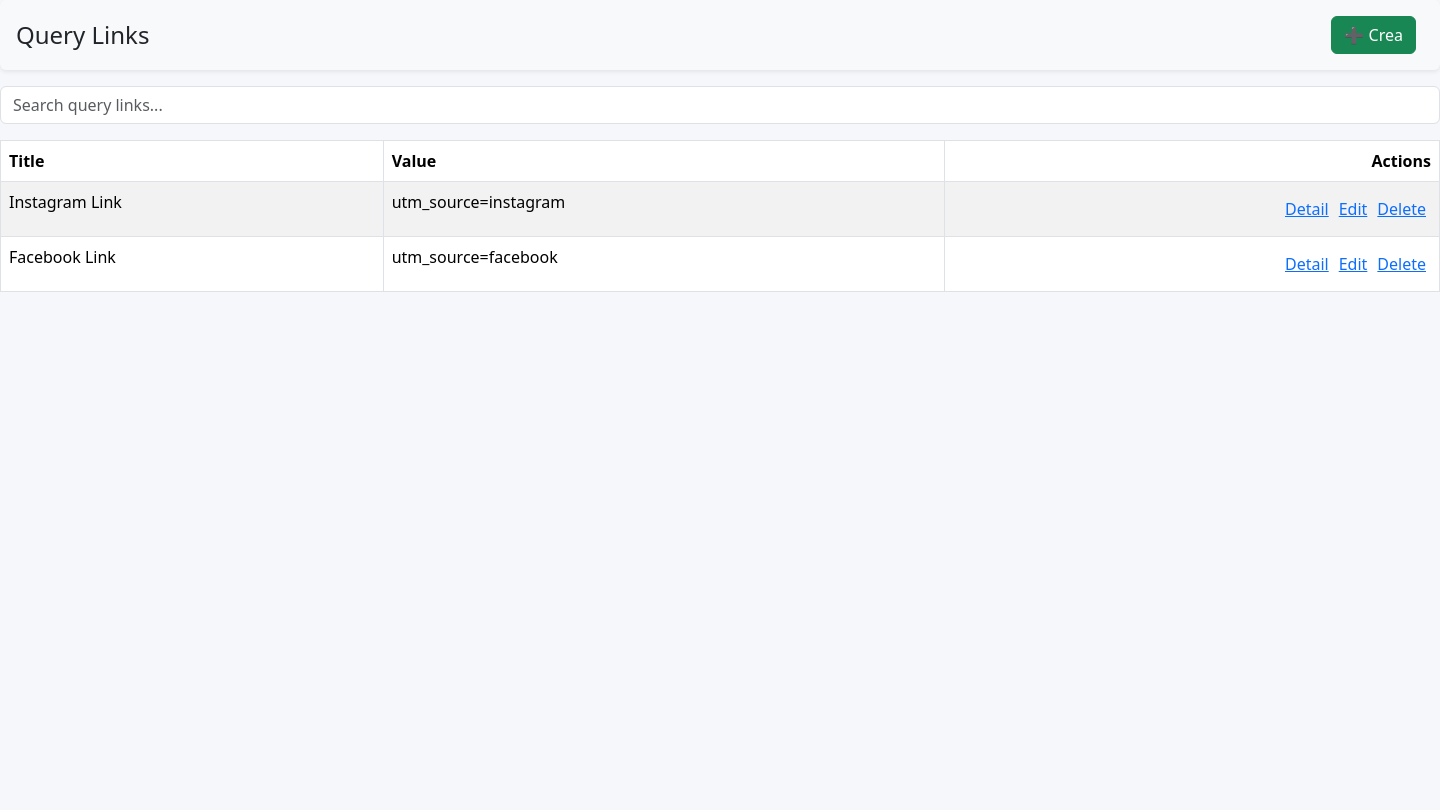
Test case: QueryLinks Index › closes the modal when Cancel is clicked
Click the button "Delete" in the row of "Instagram Link" at (1402,209), box [1372,190,1431,228]
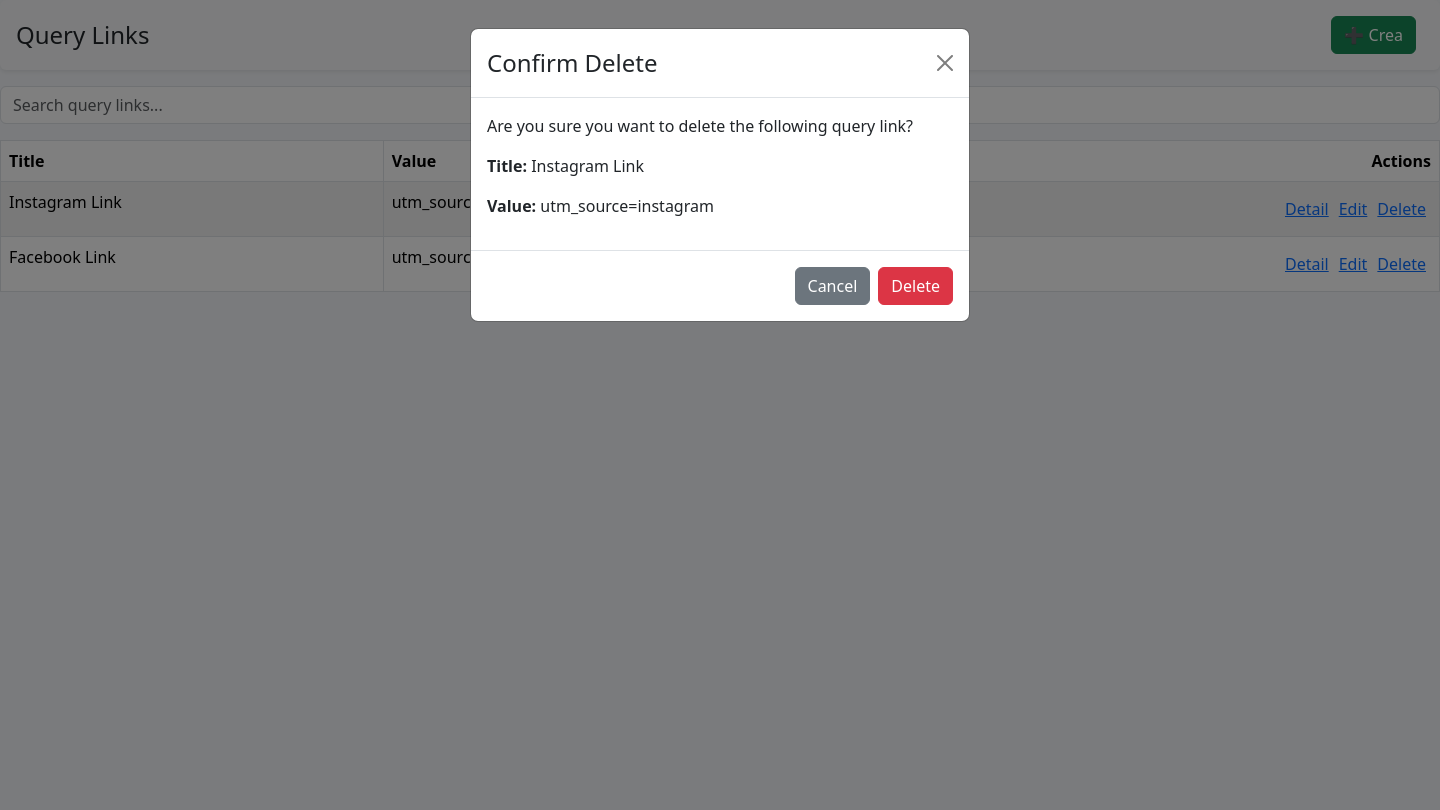
Click the button "Cancel" at (832,286), box [794,267,870,305]
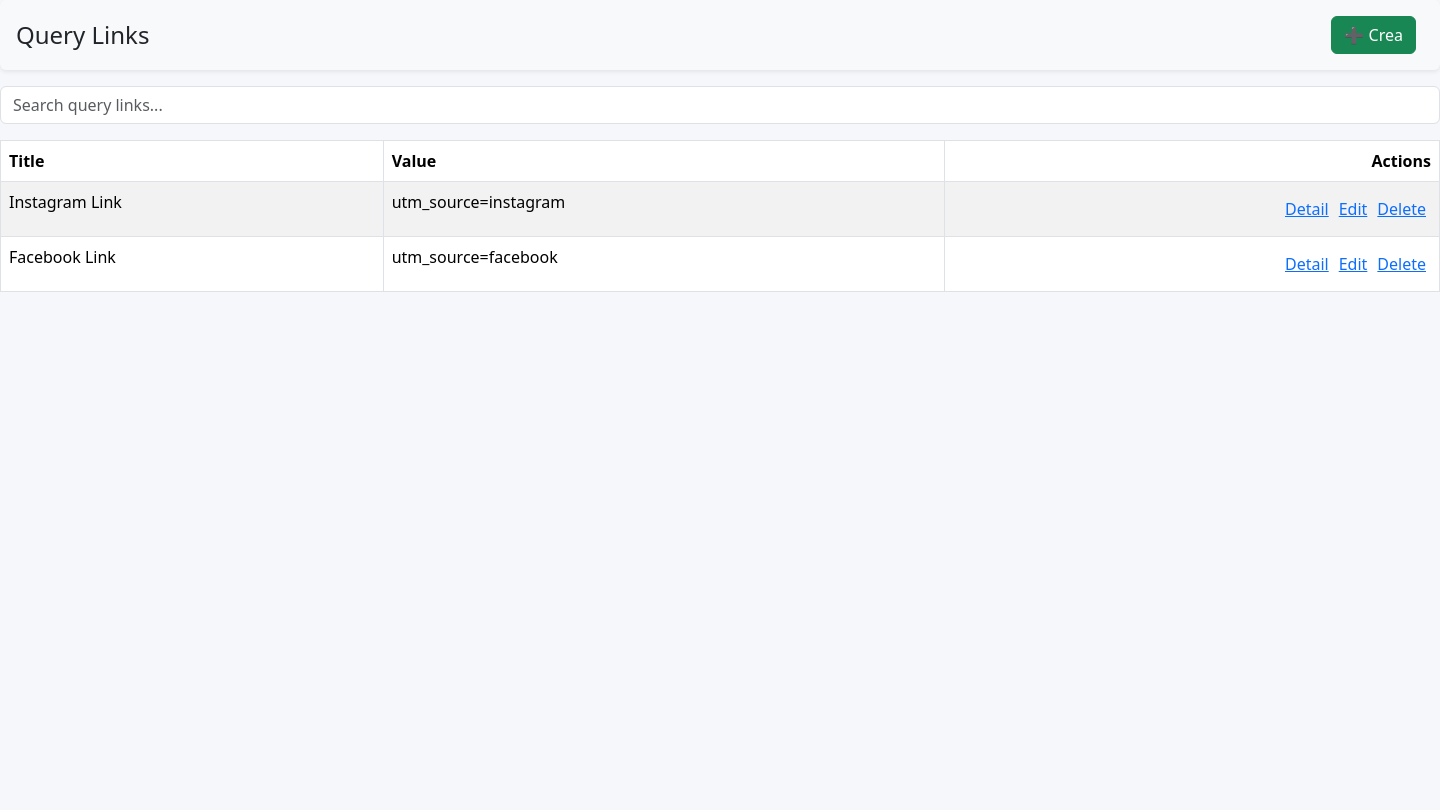
expect the text "Confirm Delete" is gone: met
